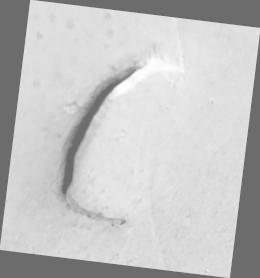crack: (0, 1, 260, 278)
